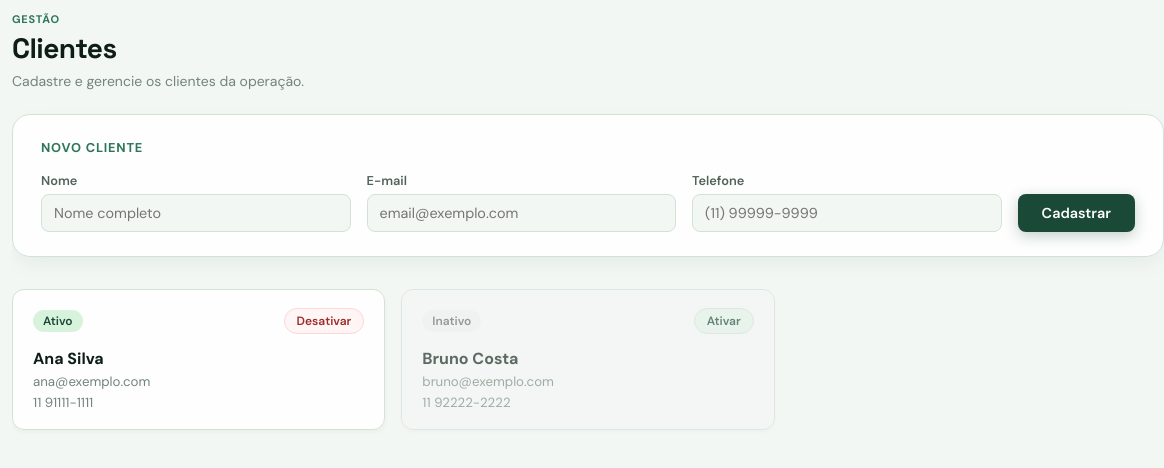
Test: CustomersPage › exibe erro de e-mail inválido
Expected: the text "Ana Silva" is shown, [33, 348, 104, 369]
Type "Teste" into the field labelled "Nome".
click(196, 213); type("Teste")  # box [41, 194, 350, 232]
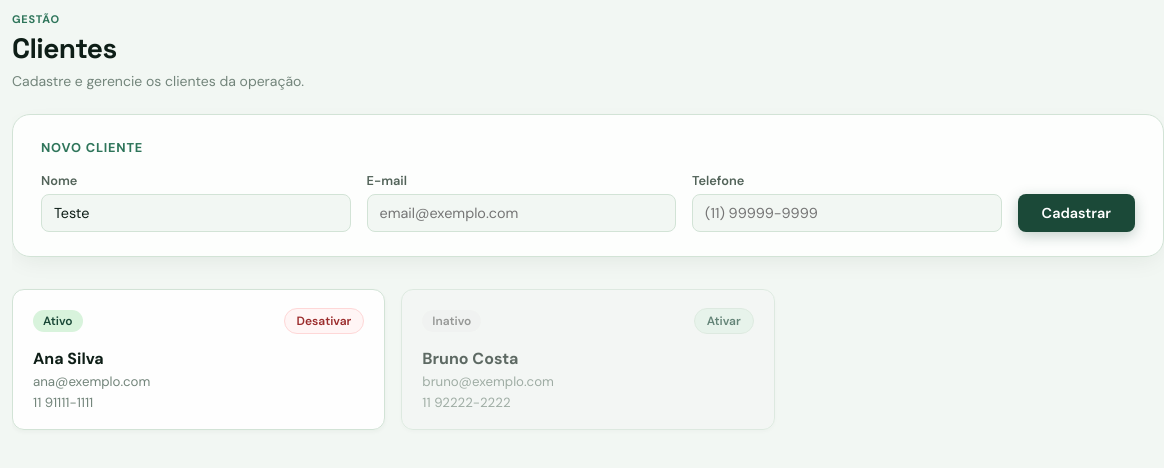
Type "nao-é-email" into the field labelled "E-mail".
click(521, 213); type("nao-é-email")  # box [366, 194, 676, 232]
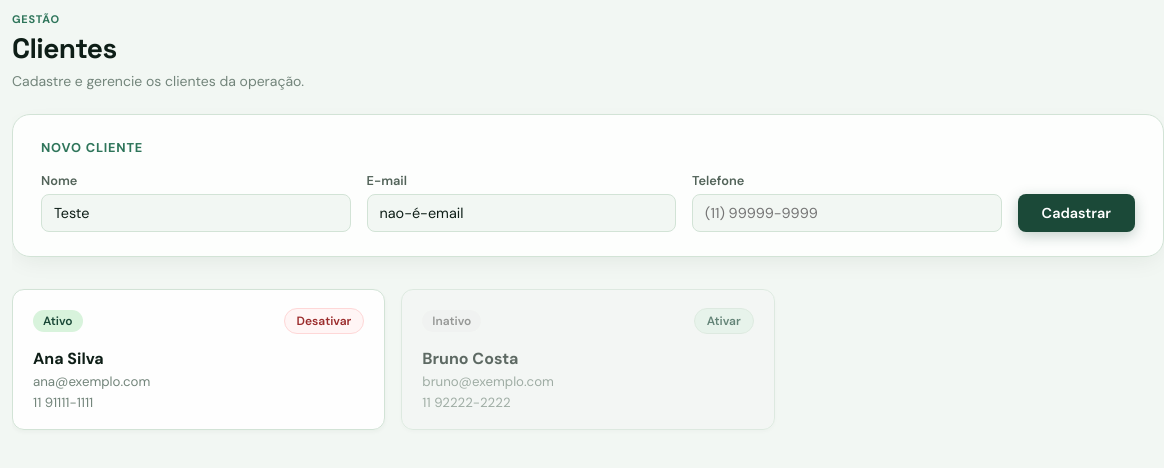
Type "11 99999-9999" into the field labelled "Telefone".
click(847, 213); type("11 99999-9999")  # box [692, 194, 1002, 232]
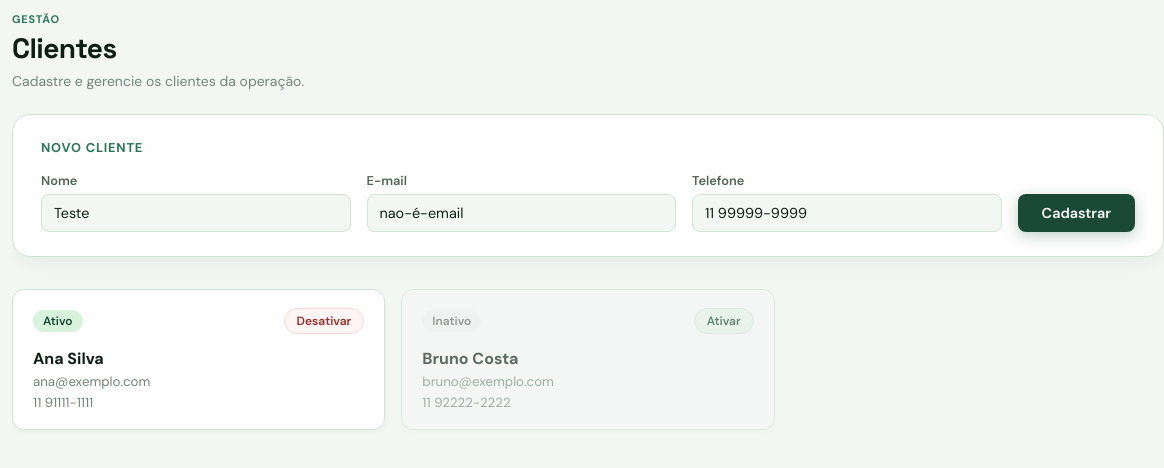
Click the button "Cadastrar".
click(1076, 213)  # box [1018, 194, 1135, 232]
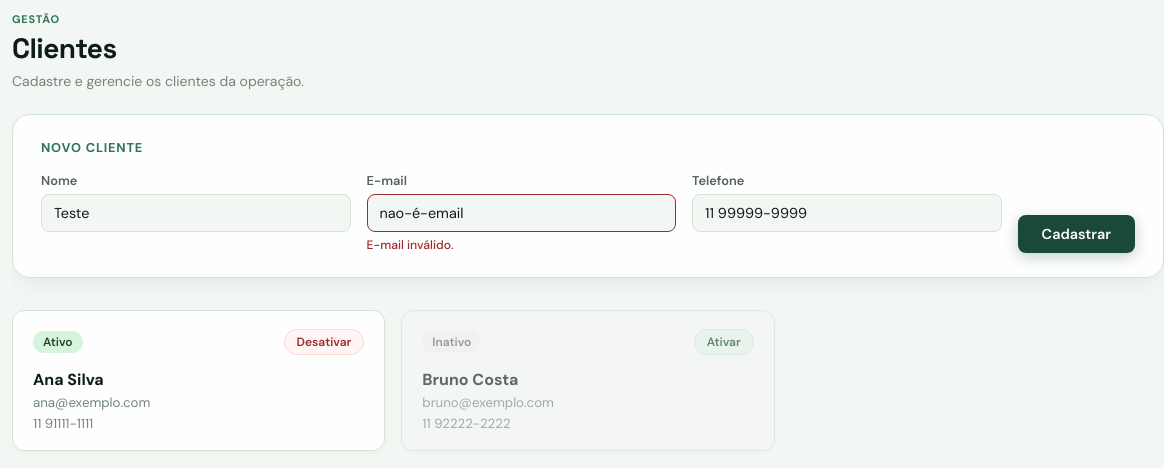
Result: the text "E-mail inválido." is shown at [366, 237, 454, 253]
